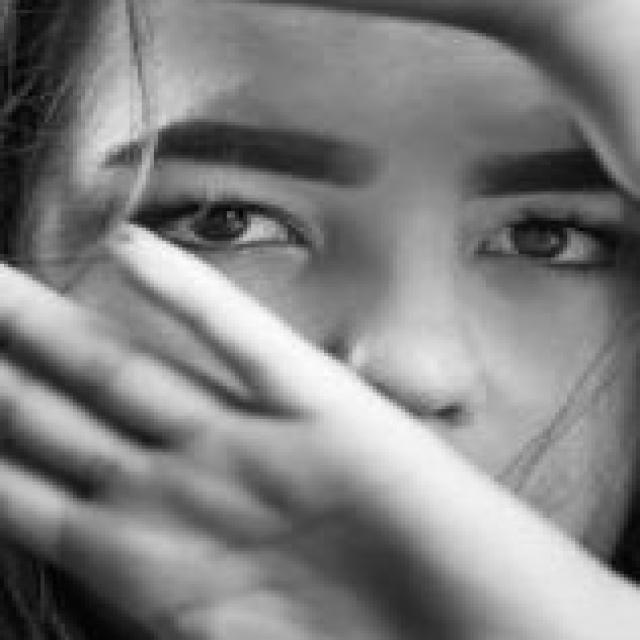Anxiety: (0, 8, 636, 637)
